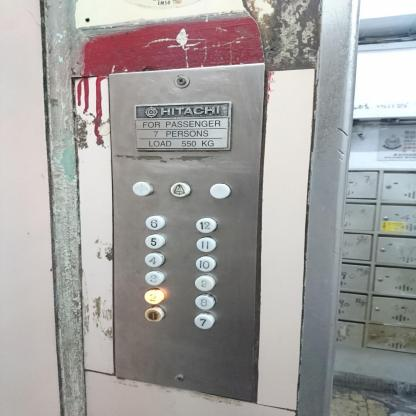1: (144, 305, 166, 323)
10: (194, 255, 217, 273)
11: (195, 235, 218, 254)
12: (193, 216, 218, 234)
2: (143, 288, 165, 305)
3: (144, 269, 166, 287)
4: (144, 251, 165, 268)
5: (144, 232, 167, 250)
6: (143, 214, 167, 231)
7: (193, 312, 216, 330)
8: (194, 292, 216, 311)
9: (194, 274, 216, 292)
alarm: (167, 181, 192, 198)
empty: (208, 182, 232, 200)
keyhole: (174, 374, 184, 382)
open: (130, 180, 155, 197)
